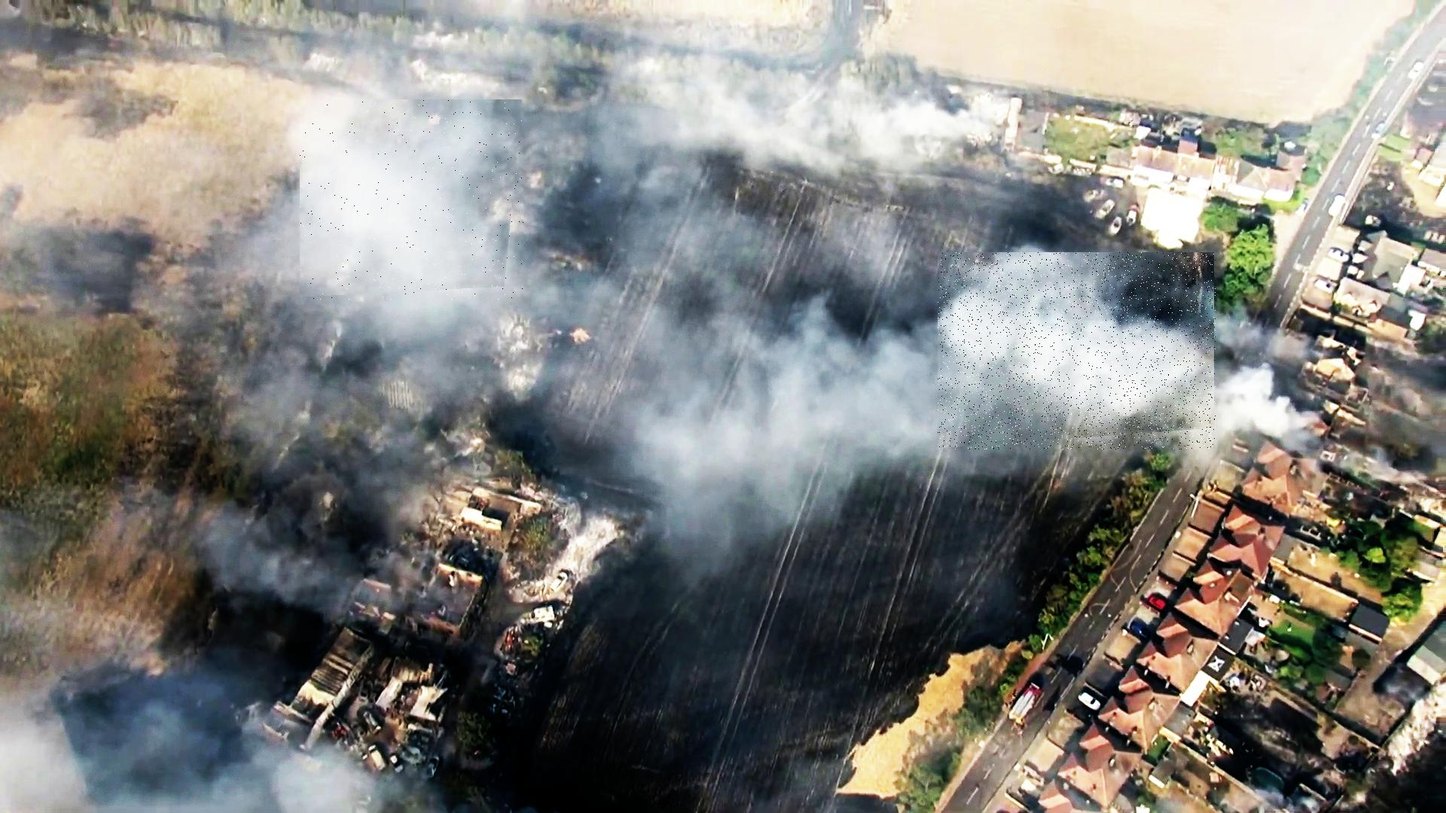smoke: (938, 253, 1216, 450), (300, 100, 523, 300)
